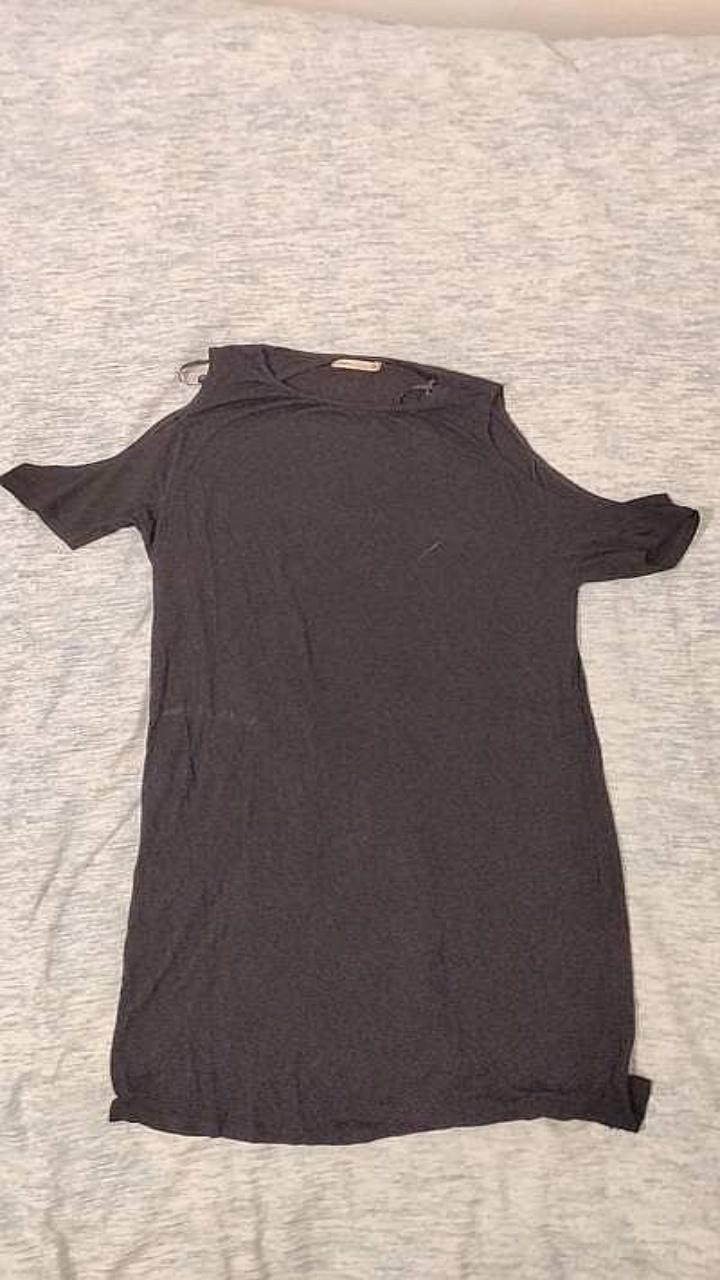T-Shirt: (0, 344, 698, 1143)
